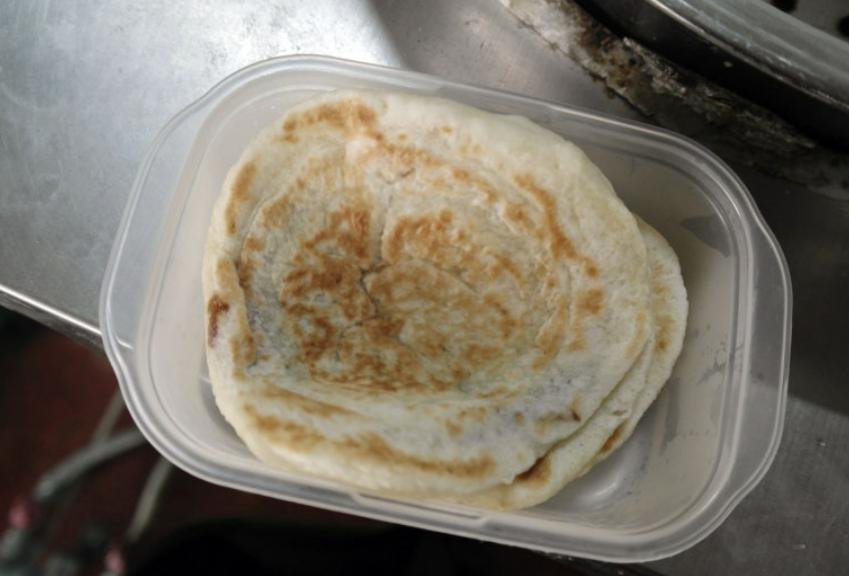Lunch Box: (100, 57, 789, 560)
